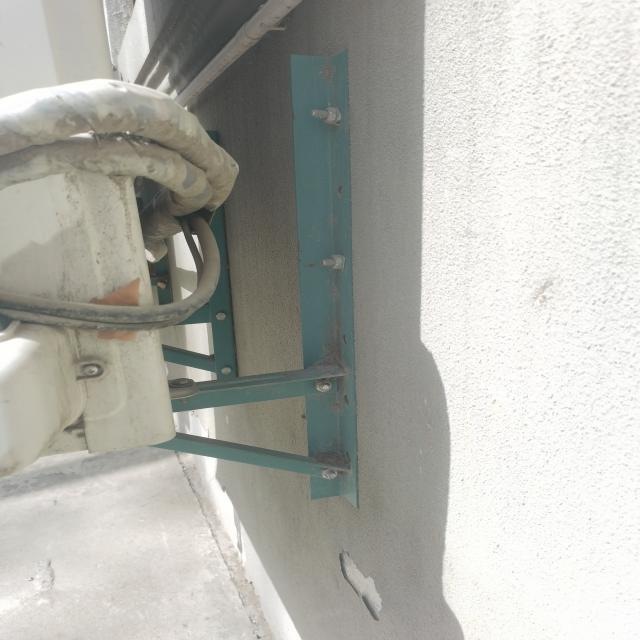bolt head: (220, 365, 233, 376), (215, 311, 228, 321)
bolt nut: (313, 378, 334, 393), (320, 466, 339, 480)
bolt side: (329, 254, 344, 270), (172, 378, 190, 386)
